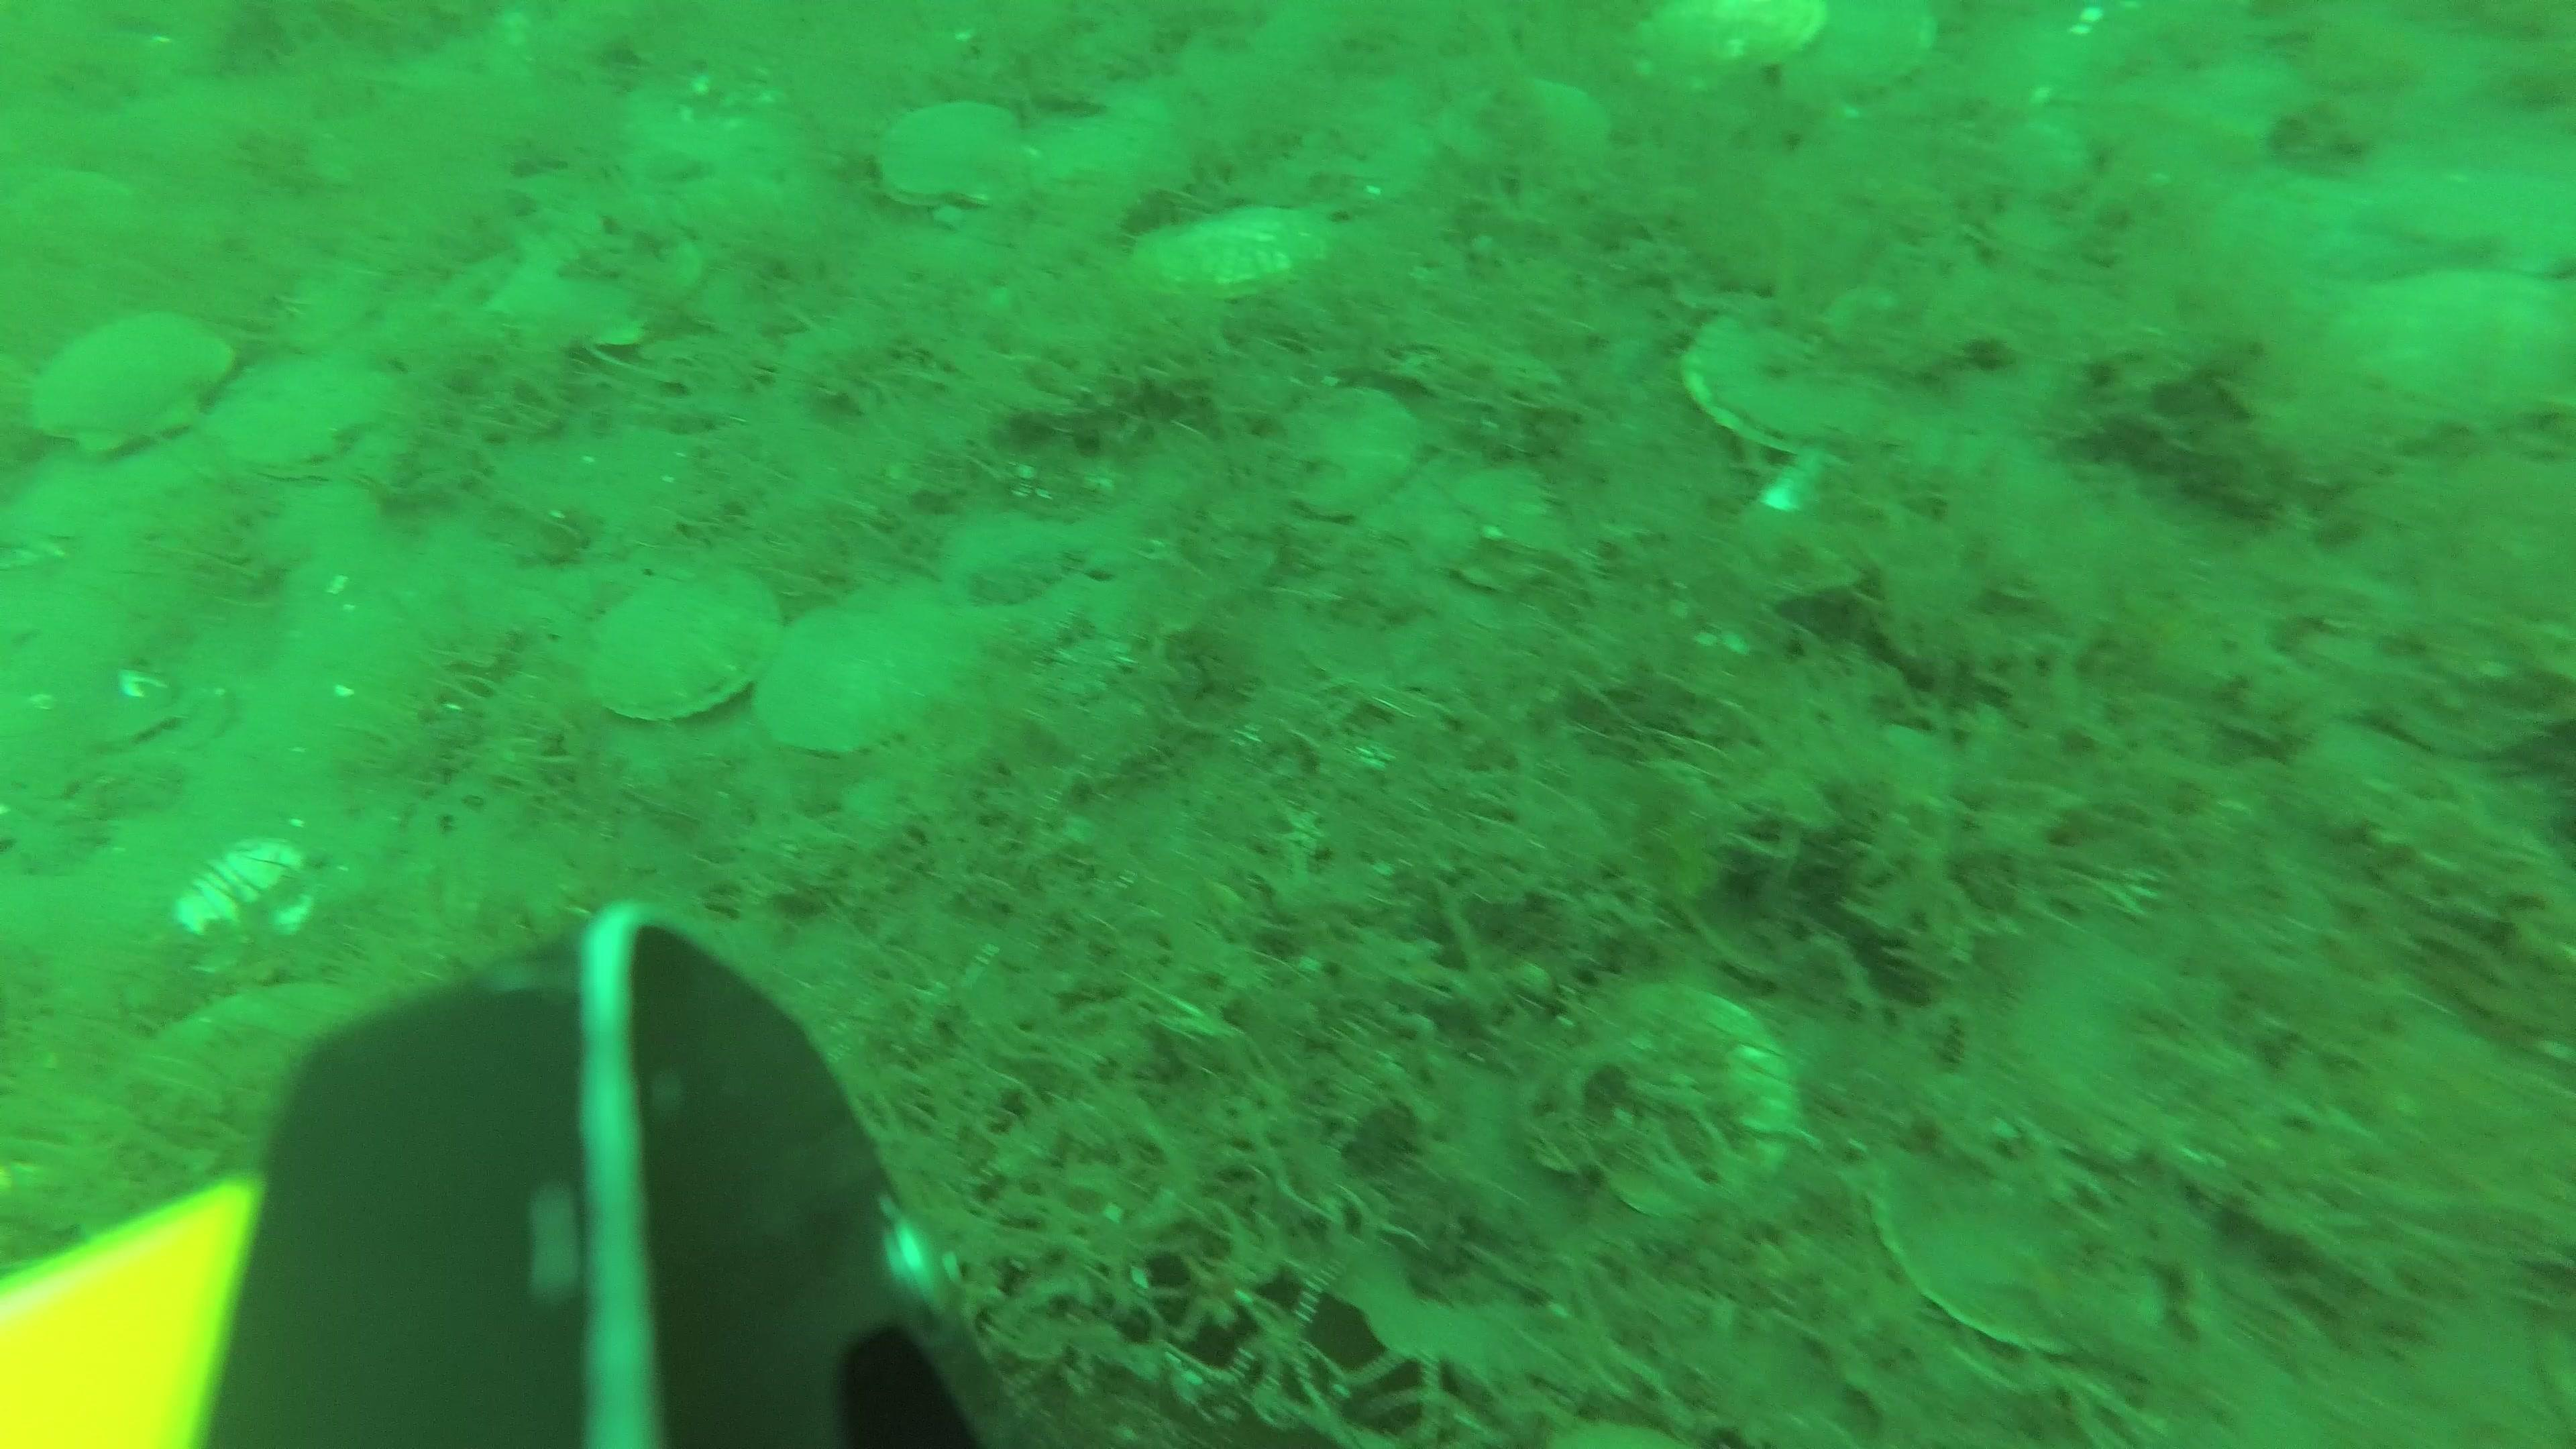scallop: (1868, 1139, 2160, 1355), (1582, 987, 1794, 1210), (580, 566, 782, 729), (1684, 311, 1905, 458), (757, 598, 964, 752), (39, 317, 221, 462), (502, 223, 702, 349), (1279, 375, 1412, 525), (883, 101, 1046, 219), (1127, 205, 1318, 295), (1790, 0, 1934, 104), (1654, 0, 1821, 87), (1442, 74, 1603, 161), (170, 844, 317, 938)
